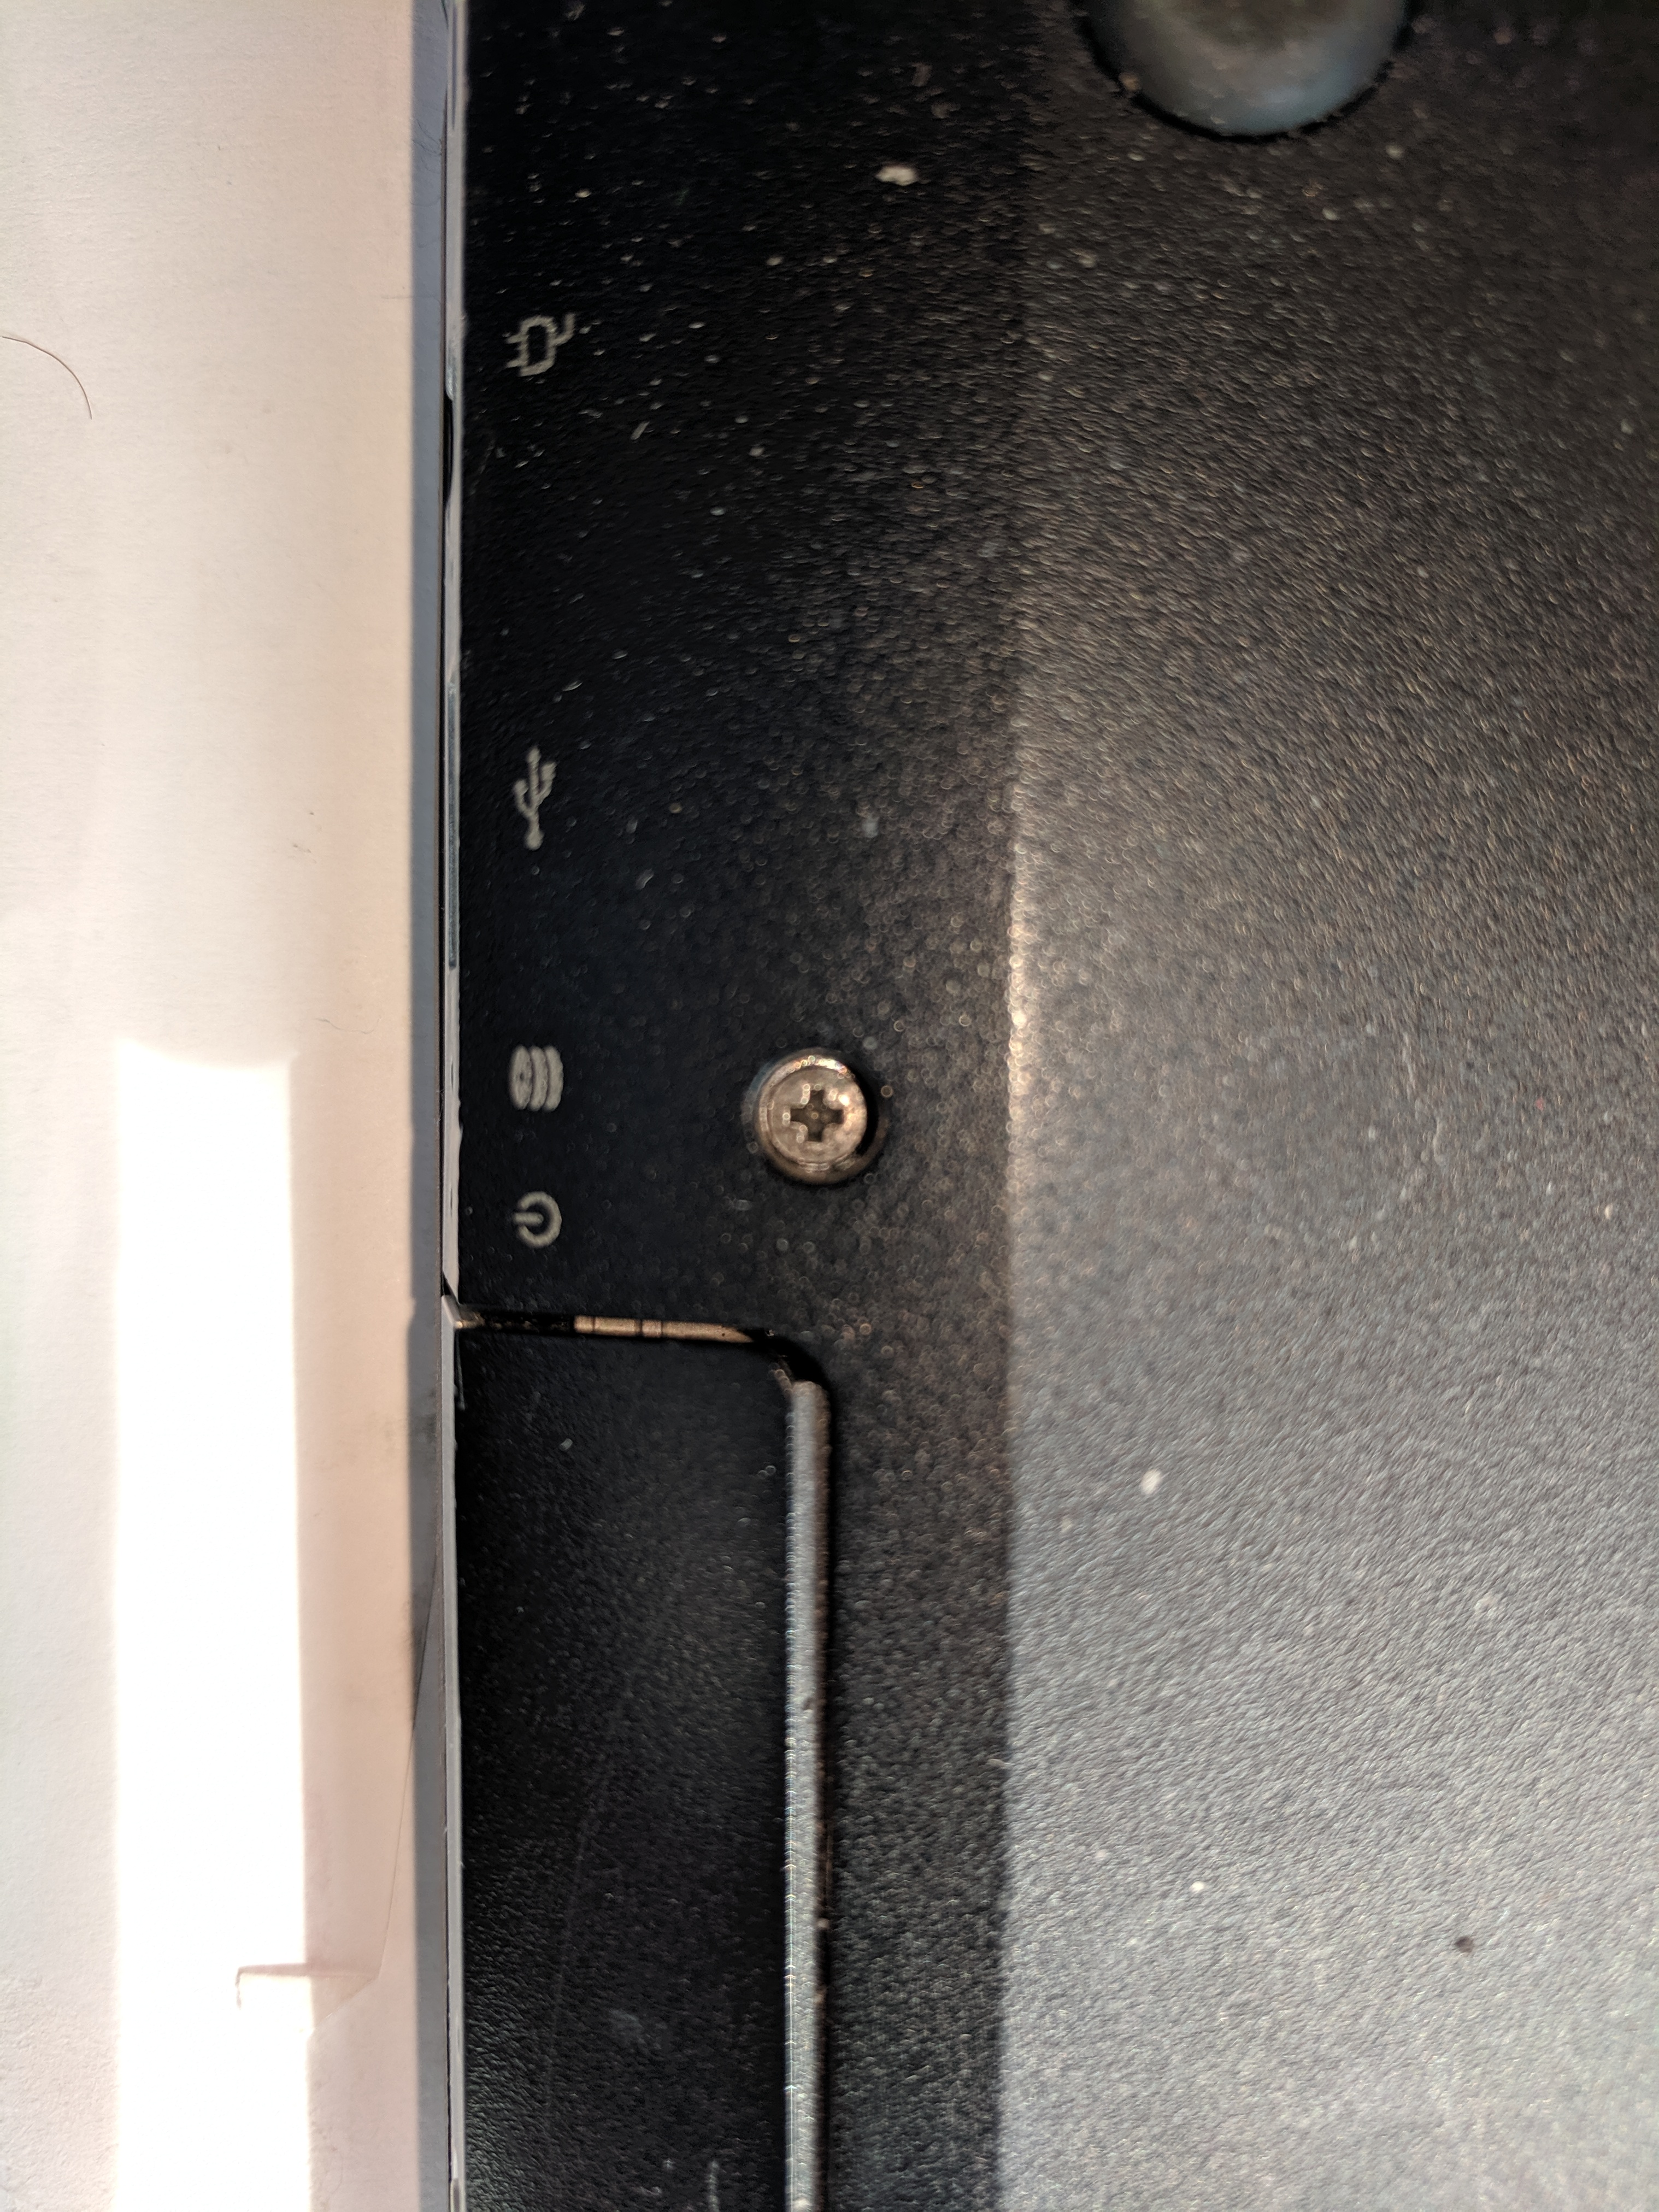cross_recessed_screw: (681, 944, 814, 1071)
